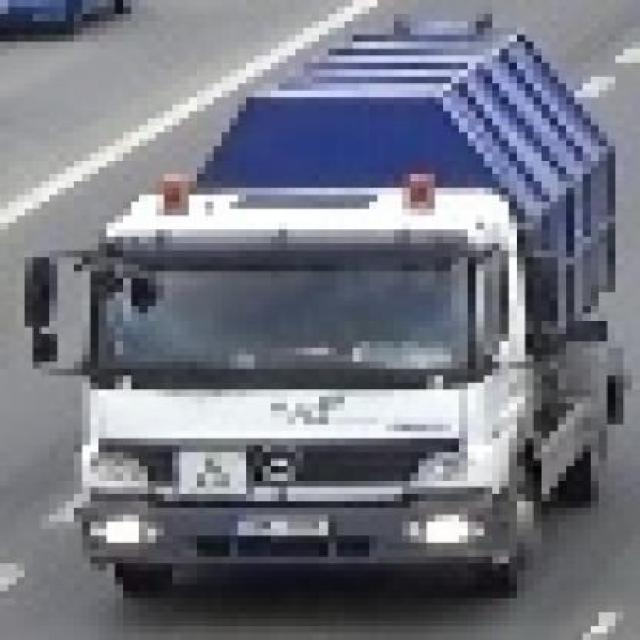truck: (34, 8, 634, 592)
